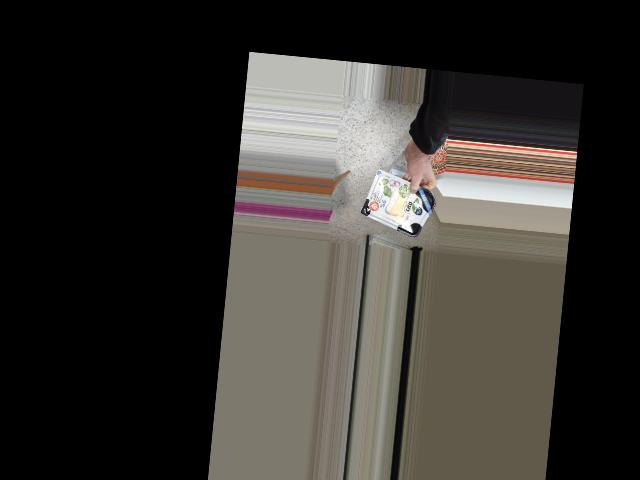cheese: (364, 179, 432, 232)
